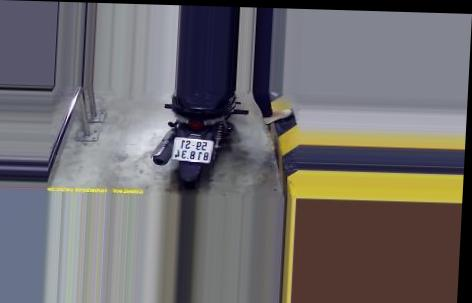License_Plate: (169, 135, 216, 168)
